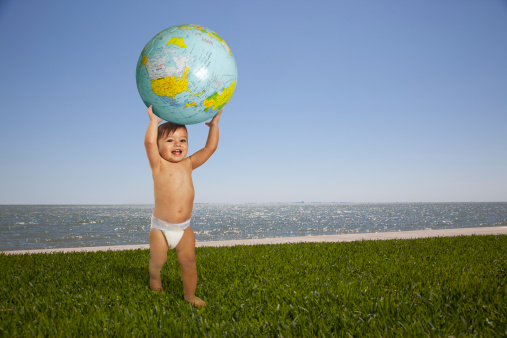em pe: (134, 95, 218, 316)
